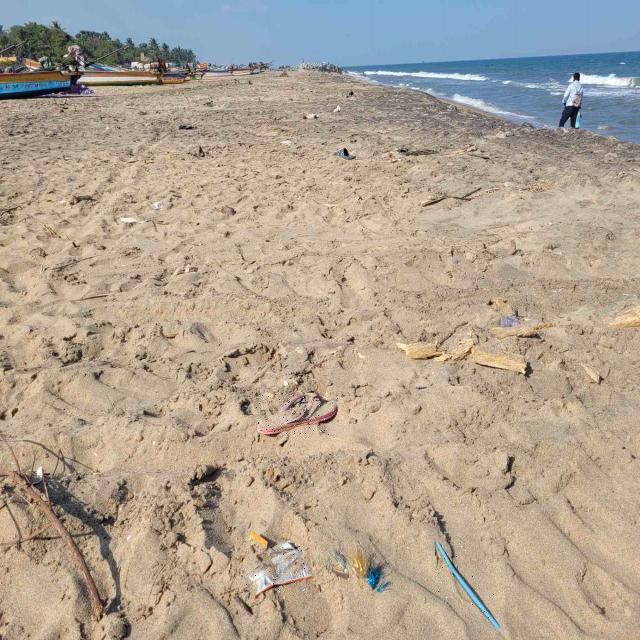other: (257, 393, 338, 435), (334, 146, 356, 159)
plastic: (437, 542, 501, 630)
wrapper: (244, 543, 312, 597)
